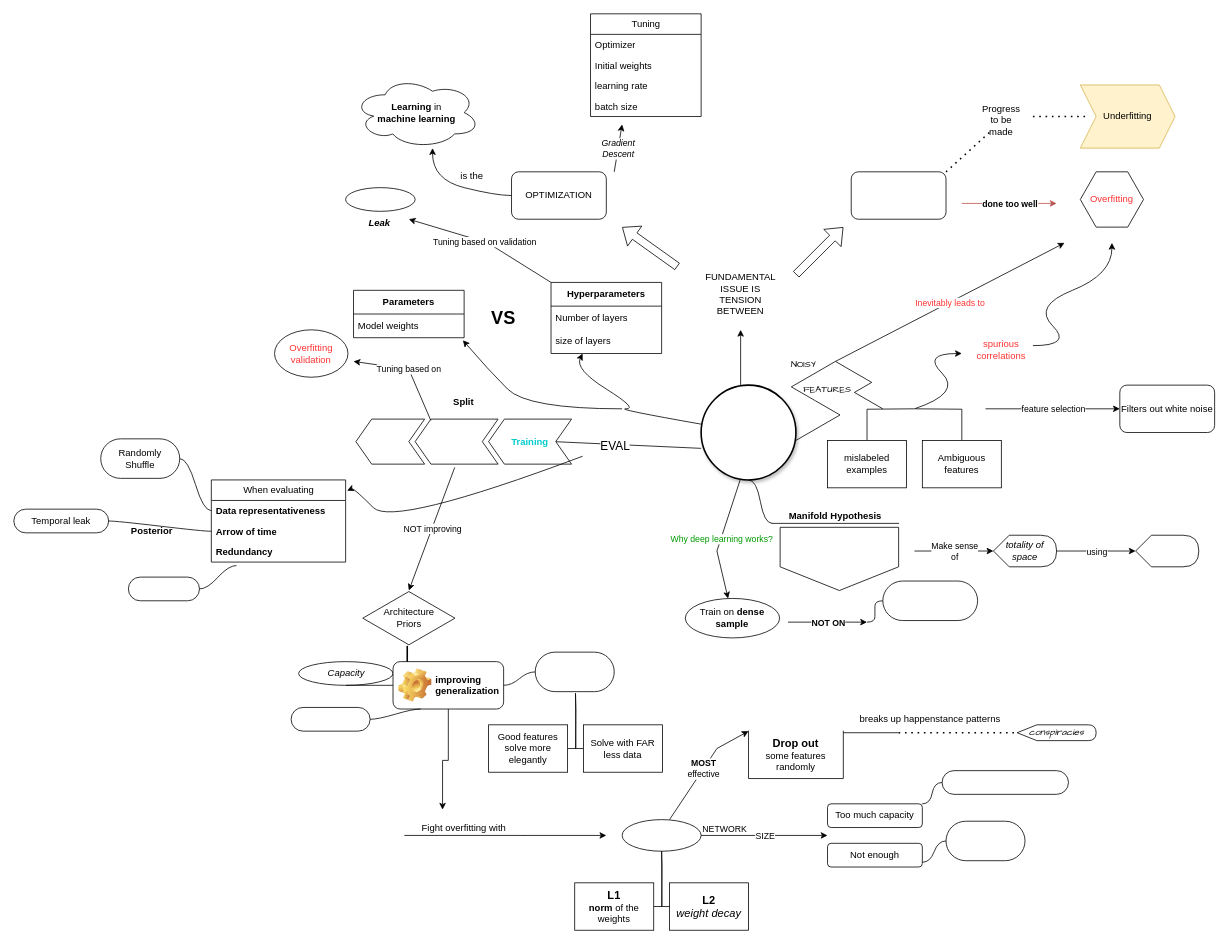
Some shapes in this 1228 by 944 pixel diagram are drawn without their labels. The centre of each missing label's shape, as x and y in pixels:
"a sample of space" goes at point 1167,550.
"dis - joint" goes at point 163,588.
"Early Stop" goes at point 330,719.
"FEATURE ENG" goes at point 574,671.
"Fundamentals of Machine Learning" goes at point 749,433.
"GENERALIZATION" goes at point 898,195.
"Information" goes at point 380,199.
"Natural data lies on low-dimensional manifold within high space" goes at point 839,559.
"Regularization" goes at point 661,835.
"remembers too much" goes at point 1004,782.
"sparse distributions" goes at point 930,600.
"starved for resources" goes at point 985,840.
"Testing" goes at point 390,441.
"Validation" goes at point 456,441.
